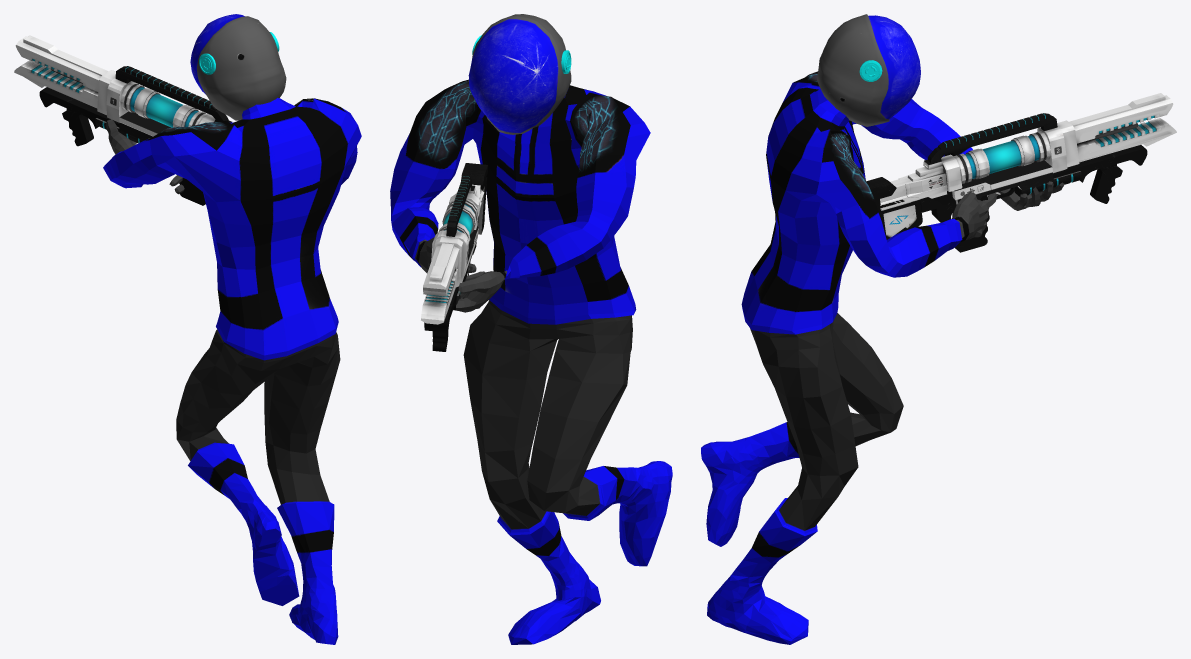
3 views of the same model, side by side, from view 1: azimuth 30°, elevation 25°; view 2: azimuth 150°, elevation 25°; view 3: azimuth 270°, elevation 25° (orthographic). The views are drawn at different scales.
Parts seen in each view (by area): view 1: Brazos2, Piernas1, Line0011, Cabeza1; view 2: Brazos2, Piernas1, Cabeza1, Line0011; view 3: Brazos2, Piernas1, Line0011, Cabeza1.
Part boxes in pixels (left/top/right/bottom): Brazos2: left=103, top=98, right=361, bottom=360; Piernas1: left=176, top=329, right=340, bottom=644; Line0011: left=14, top=35, right=232, bottom=205; Cabeza1: left=190, top=14, right=286, bottom=120; Brazos2: left=390, top=79, right=650, bottom=324; Piernas1: left=463, top=300, right=672, bottom=644; Cabeza1: left=468, top=14, right=571, bottom=134; Line0011: left=421, top=163, right=487, bottom=351; Brazos2: left=741, top=71, right=1064, bottom=334; Piernas1: left=701, top=313, right=903, bottom=644; Line0011: left=866, top=93, right=1176, bottom=252; Cabeza1: left=817, top=14, right=920, bottom=126.
Bounding box in the file's own units: 65.09 × 167 × 120.
